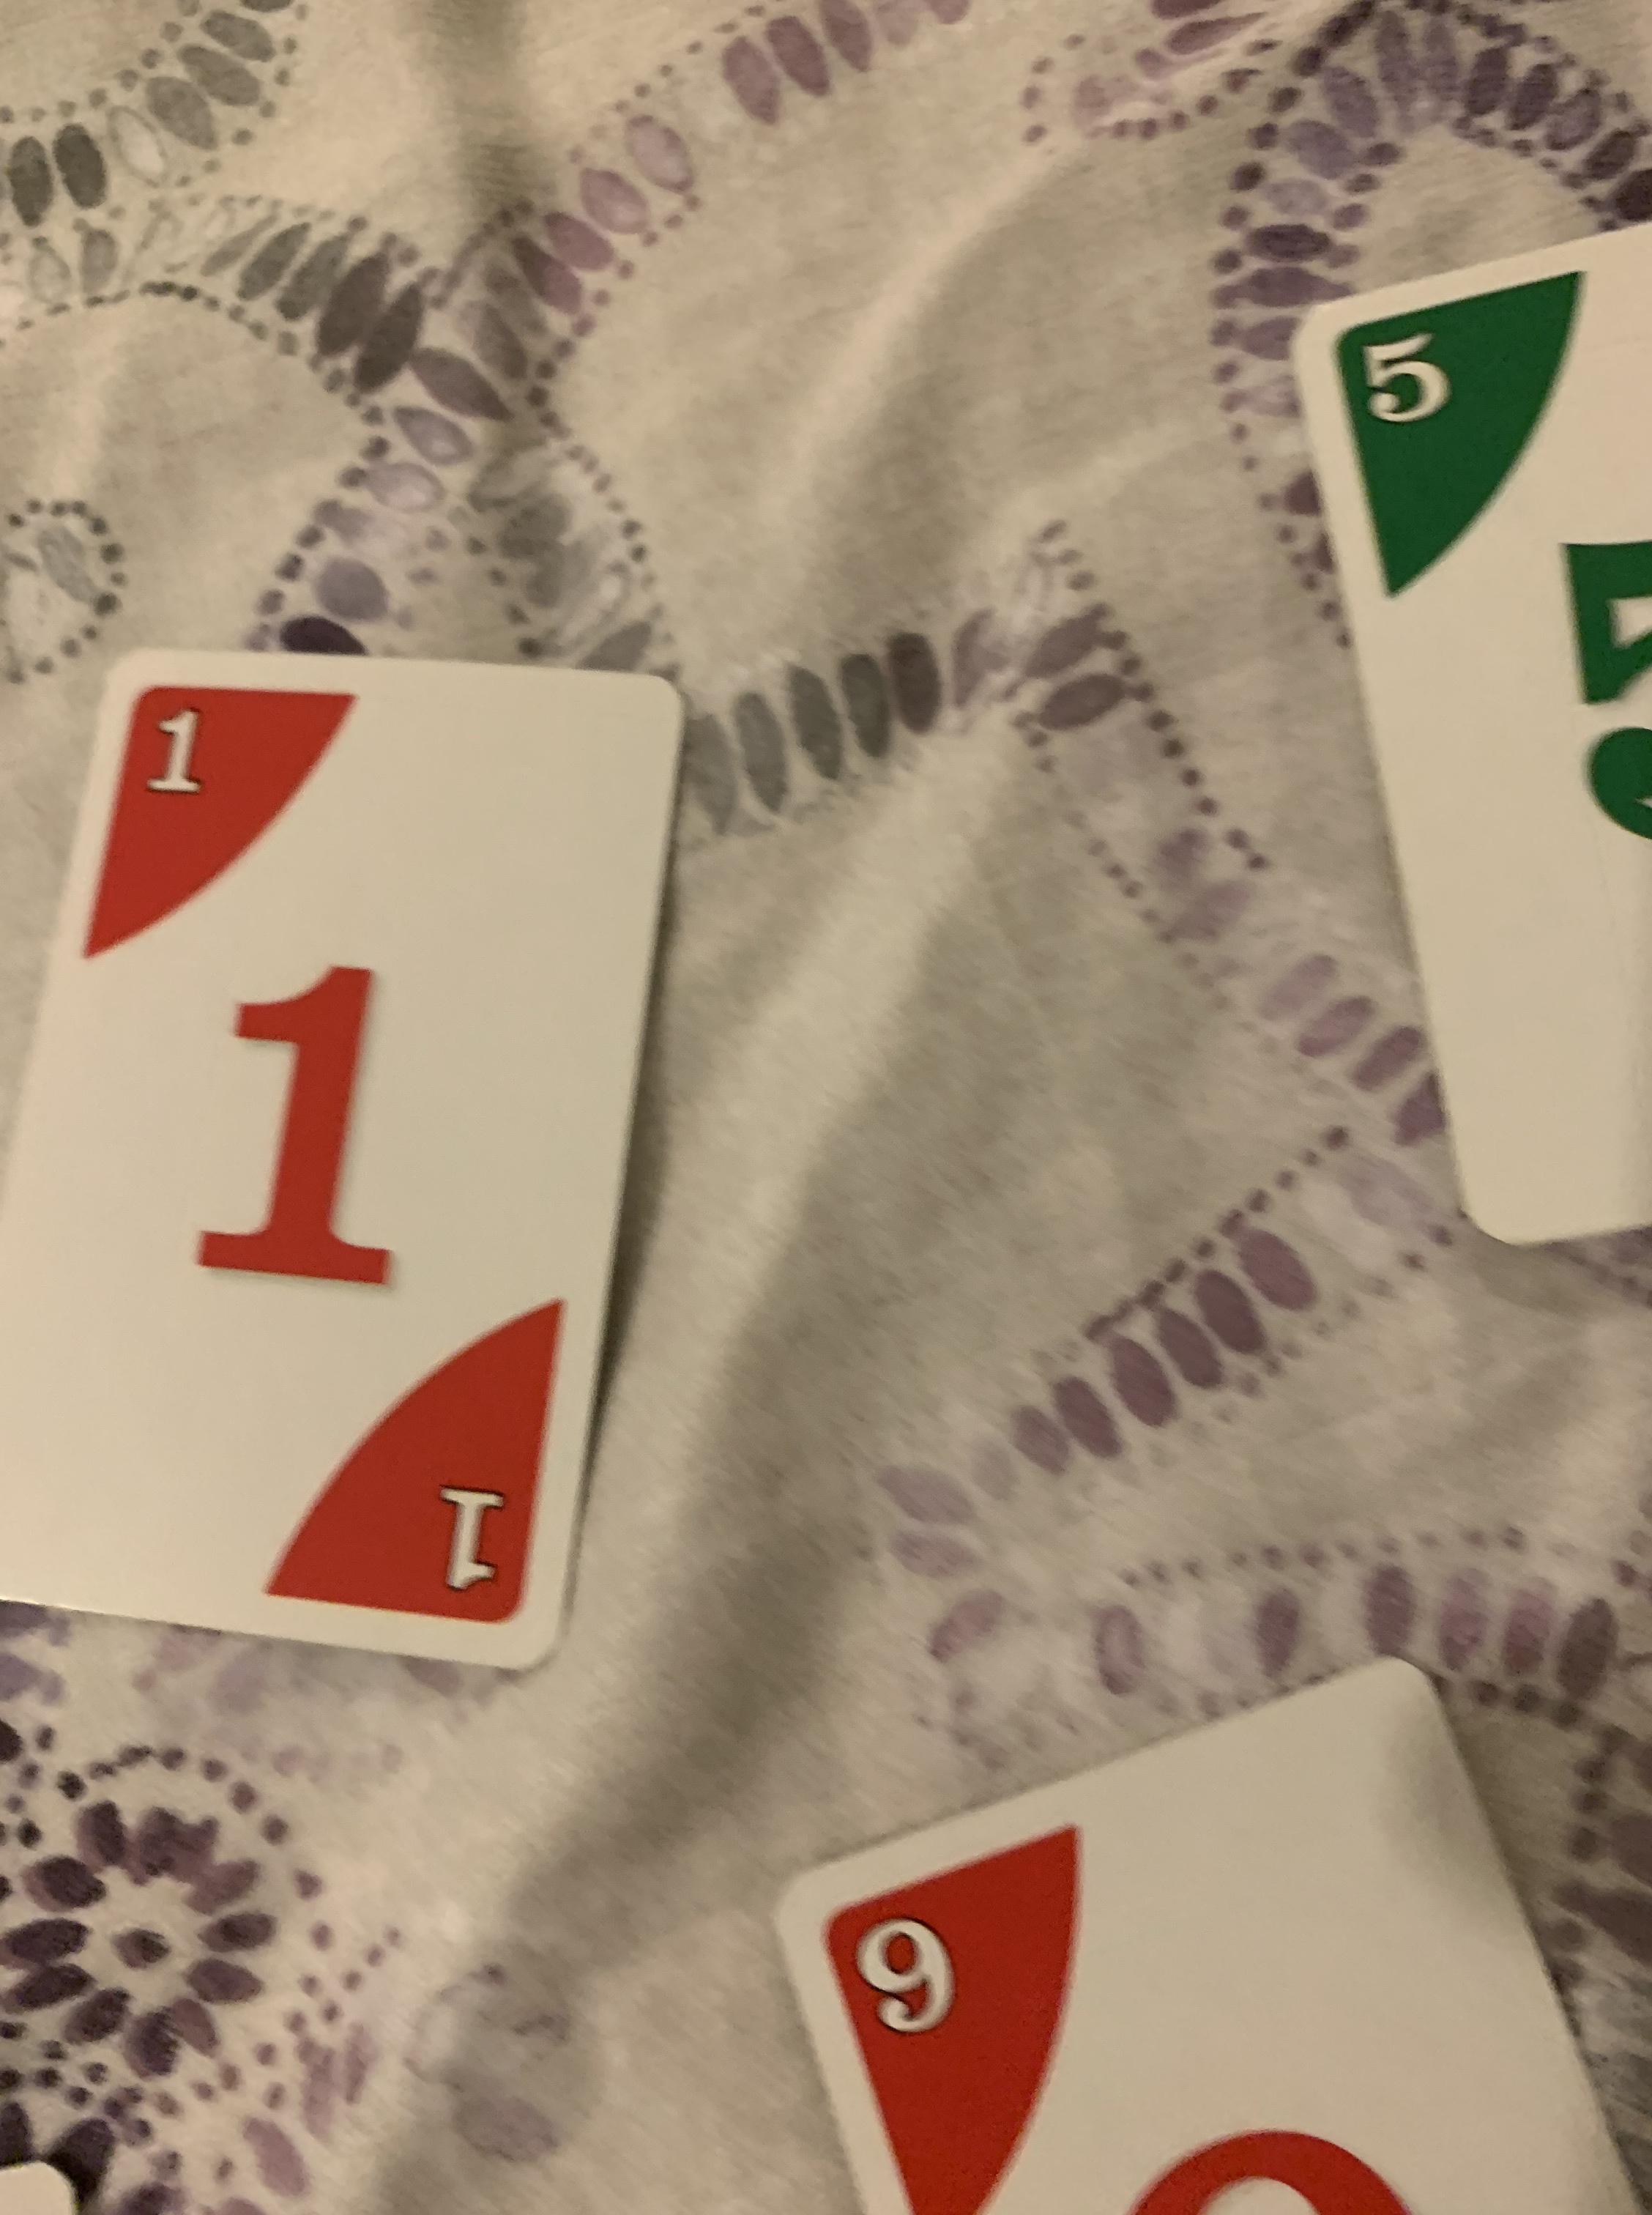five: (1293, 207, 1652, 1260)
one: (0, 639, 691, 1668)
